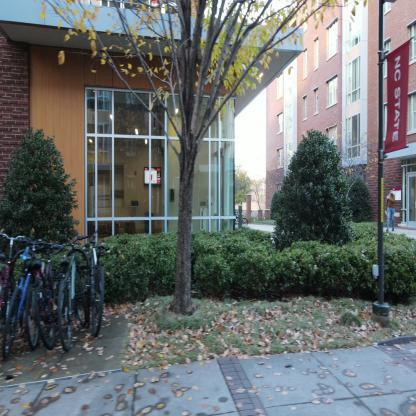Wolf Ridge: (0, 0, 415, 300)
